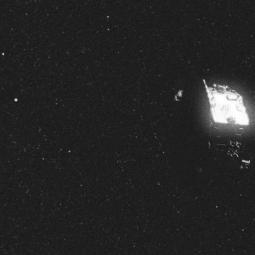lisa_pathfinder: (172, 68, 255, 181)
